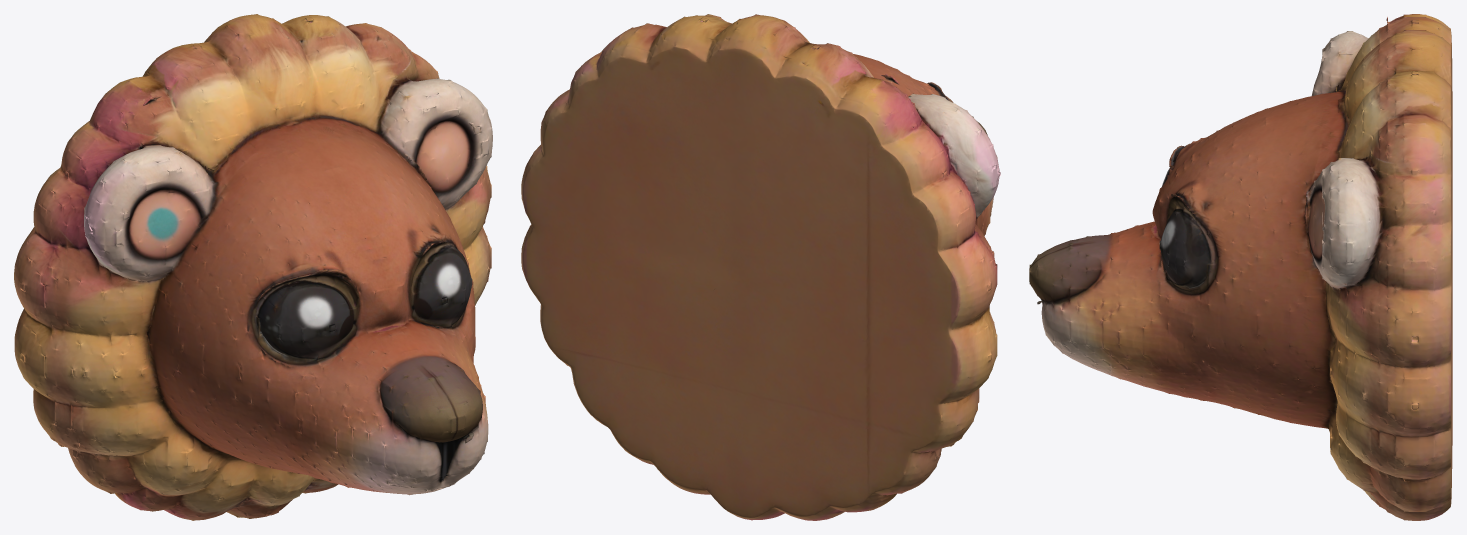
File: lion.glb
The picture shows the model from 3 angles, left to right: view 1: azimuth 30°, elevation 25°; view 2: azimuth 150°, elevation 25°; view 3: azimuth 270°, elevation 25°; orthographic projection. The views are drawn at different scales.
Bounding box in the file's own units: 1.93 × 1.97 × 1.63.
Materials: 1 (1 with a texture image).
